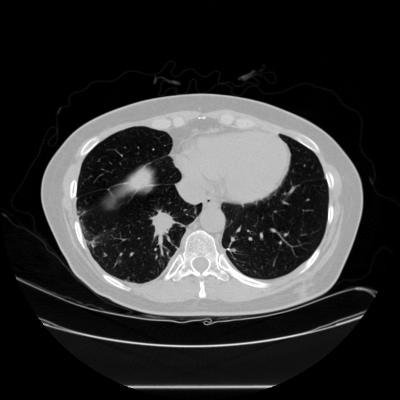nodule: (151, 211, 173, 233)
